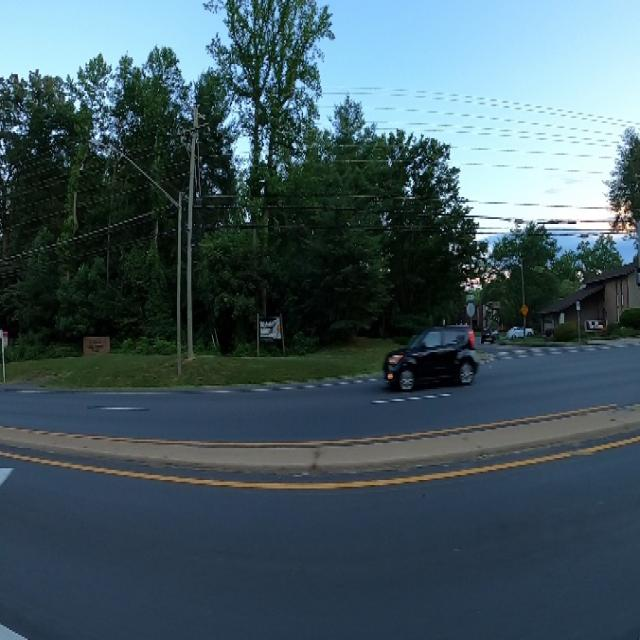car: (377, 317, 490, 398)
